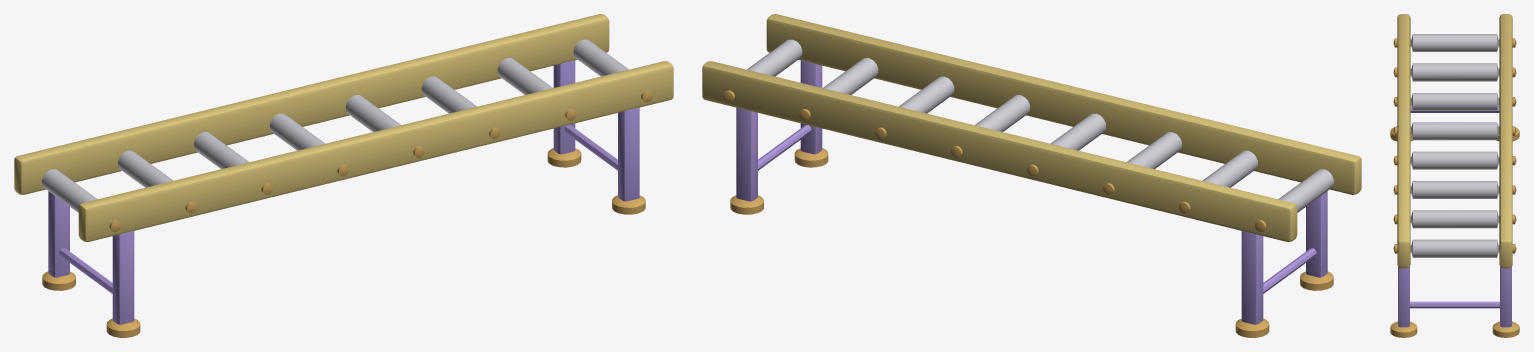
Rendered from W5_ConveyorFrame.fbx.
3 views of the same model, side by side, from view 1: azimuth 30°, elevation 25°; view 2: azimuth 150°, elevation 25°; view 3: azimuth 270°, elevation 25° (orthographic). The views are drawn at different scales.
Visible parts, largest first — view 1: W5_ConveyorFrame; view 2: W5_ConveyorFrame; view 3: W5_ConveyorFrame.
Part boxes in pixels (x1,y1,x2,y2): W5_ConveyorFrame: (14,14,673,337); W5_ConveyorFrame: (702,14,1361,337); W5_ConveyorFrame: (1390,14,1519,337).
Bounding box in the file's own units: 1.8 × 0.395 × 0.43.
